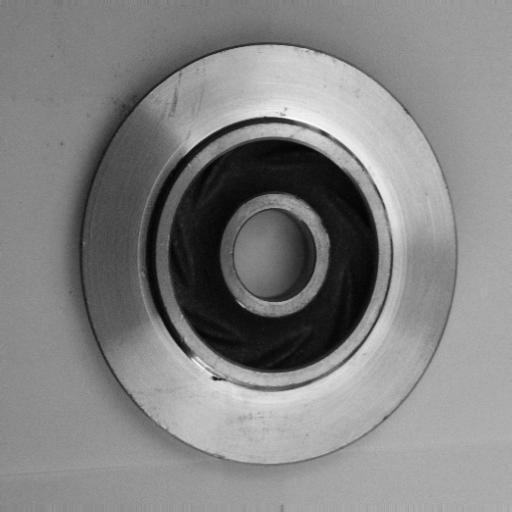crack: (189, 349, 229, 391)
unpolished_casting: (78, 42, 459, 468)
